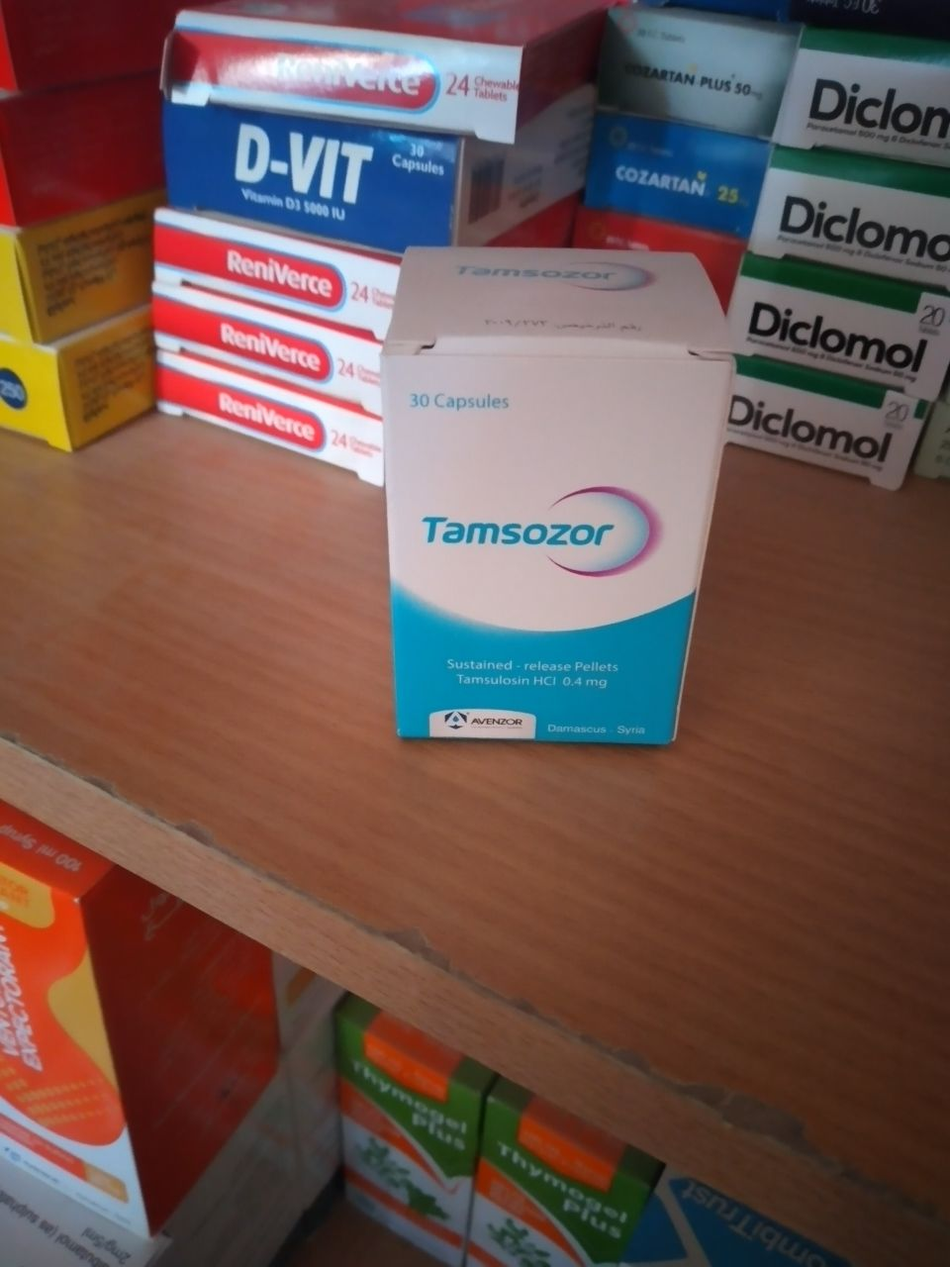Medicine: (353, 234, 739, 779), (109, 79, 607, 228), (152, 3, 590, 125), (696, 221, 950, 393), (148, 198, 452, 337), (729, 343, 910, 505), (736, 142, 950, 274), (792, 40, 950, 175)
